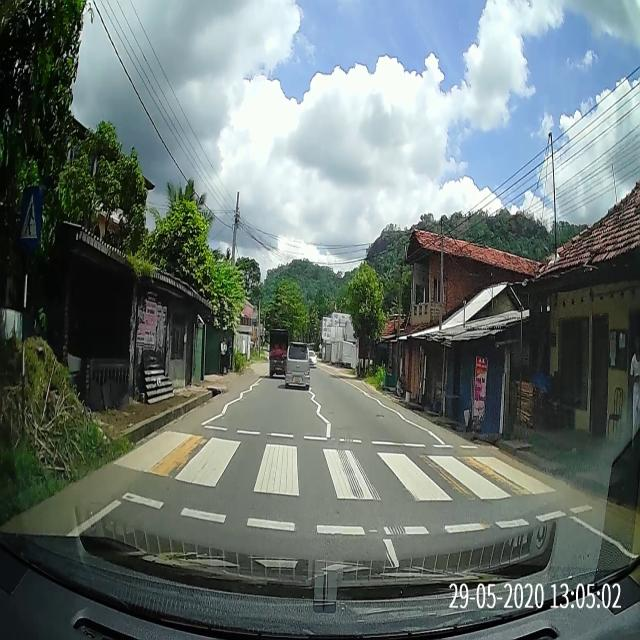Crosswalk: (102, 422, 601, 541)
